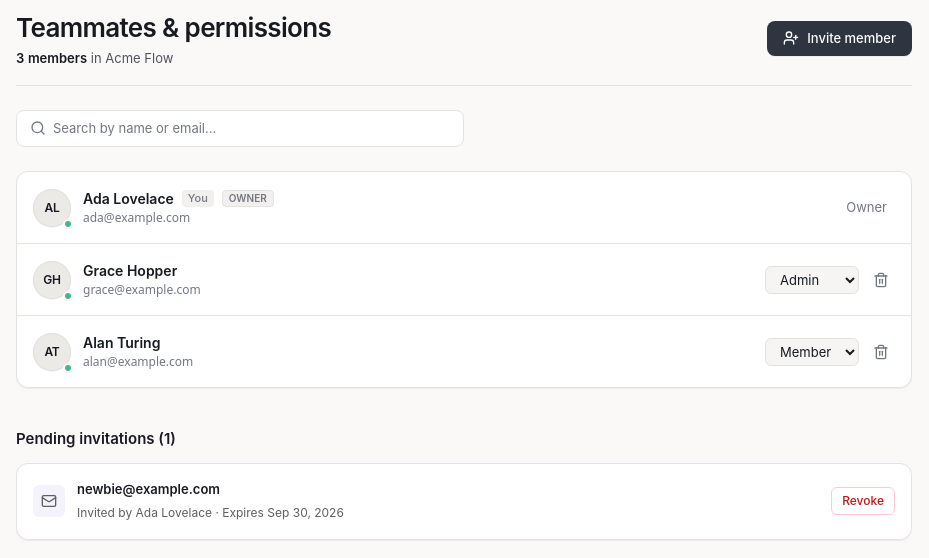
Test: SettingsMembersView › shows empty search state with clear action
In the search field with placeholder "Search by name or email...": (240, 128) [16,110,464,147], type "nobody"
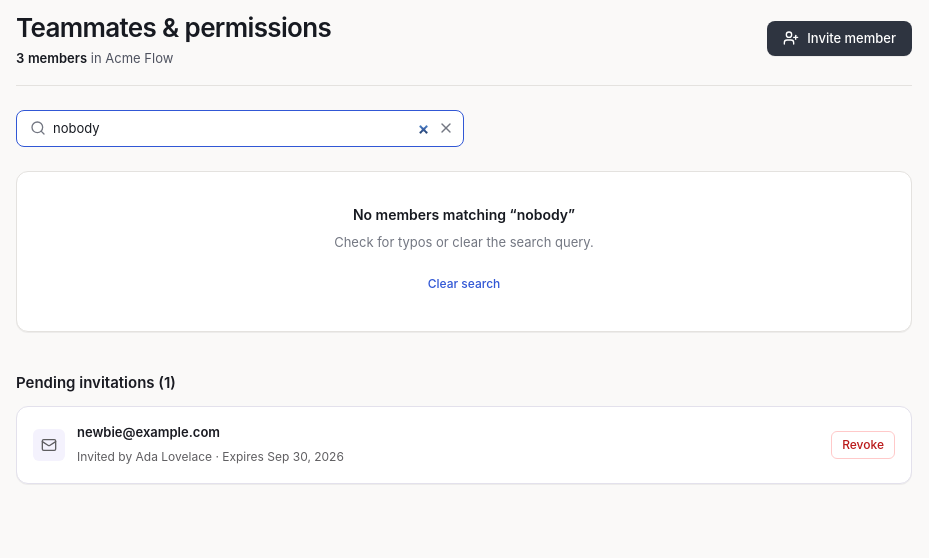
Expected: the text "No members matching “nobody”" is shown, [353,206,575,223]
Click the button "Clear search": (464, 284) [416,268,512,298]
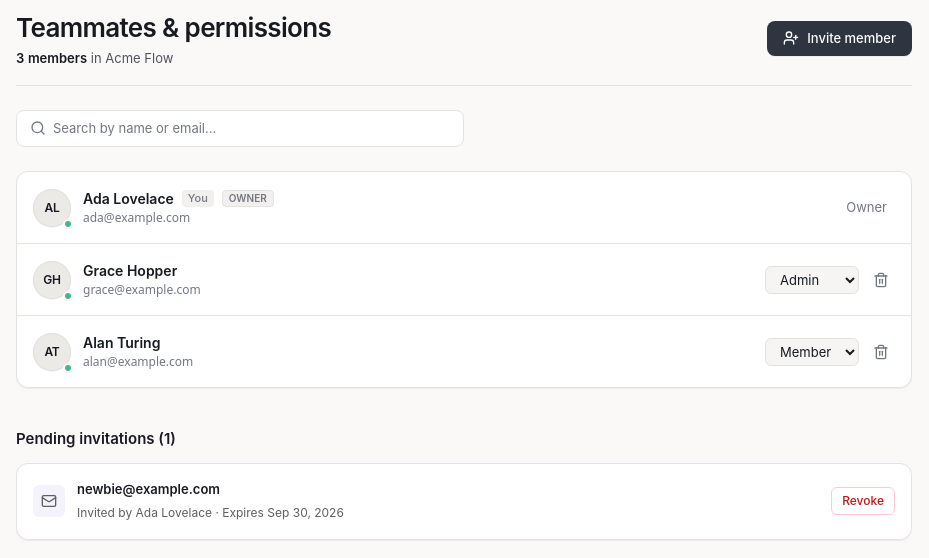
Expected: the text "Grace Hopper" is shown, [83,260,177,281]
